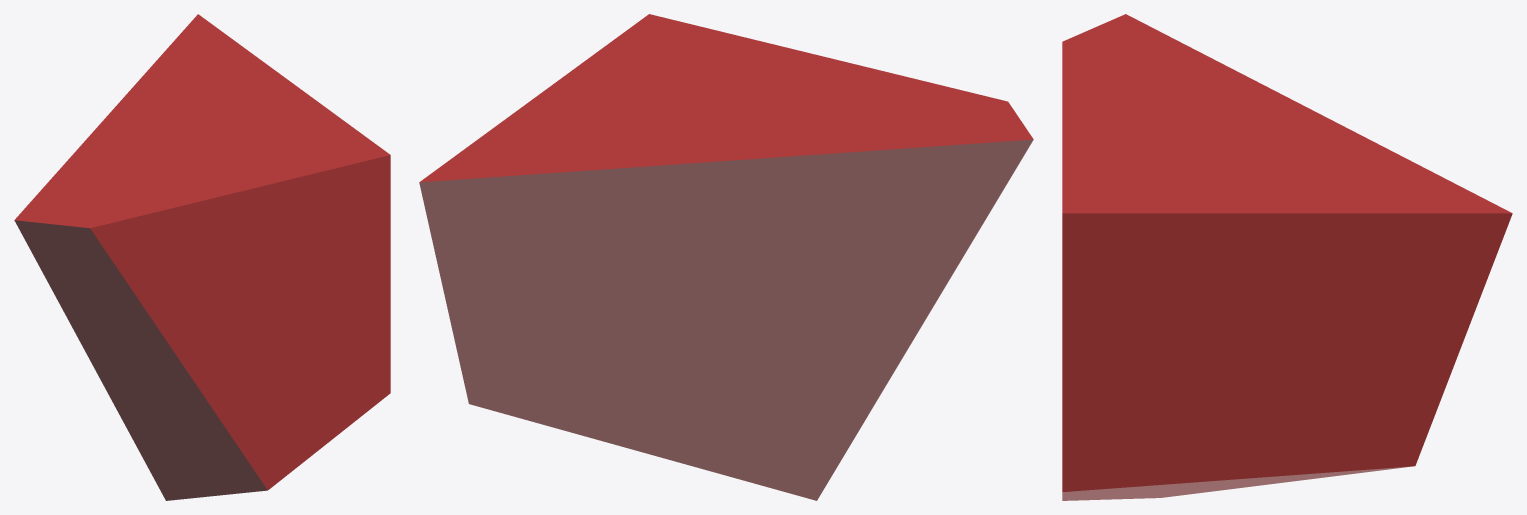
Rendered from right.fbx.
3 renders of one model, left to right at view 1: azimuth 30°, elevation 25°; view 2: azimuth 150°, elevation 25°; view 3: azimuth 270°, elevation 25°, orthographic. The views are drawn at different scales.
Visible parts, largest first — view 1: right; view 2: right; view 3: right.
Part boxes in pixels (box(x1,y1,x2,y2)): right: box(14, 14, 390, 500); right: box(419, 14, 1033, 500); right: box(1062, 14, 1512, 500).
Bounding box in the file's own units: 52.26 × 47.54 × 49.92.
